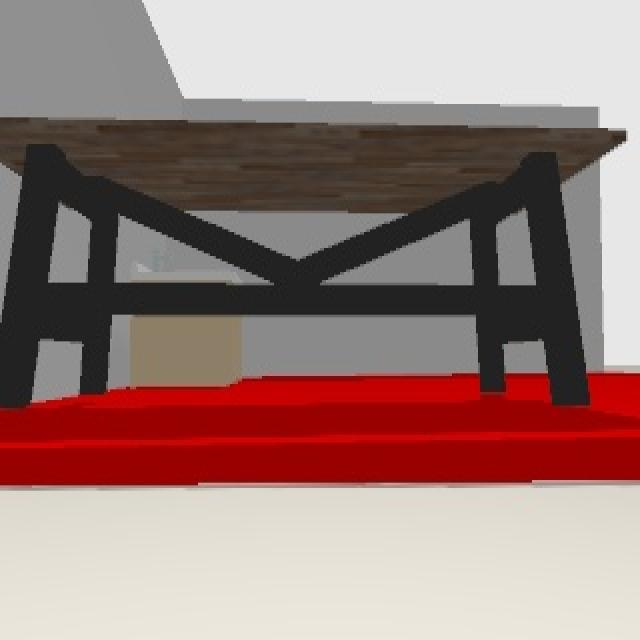dining: (1, 114, 628, 407)
